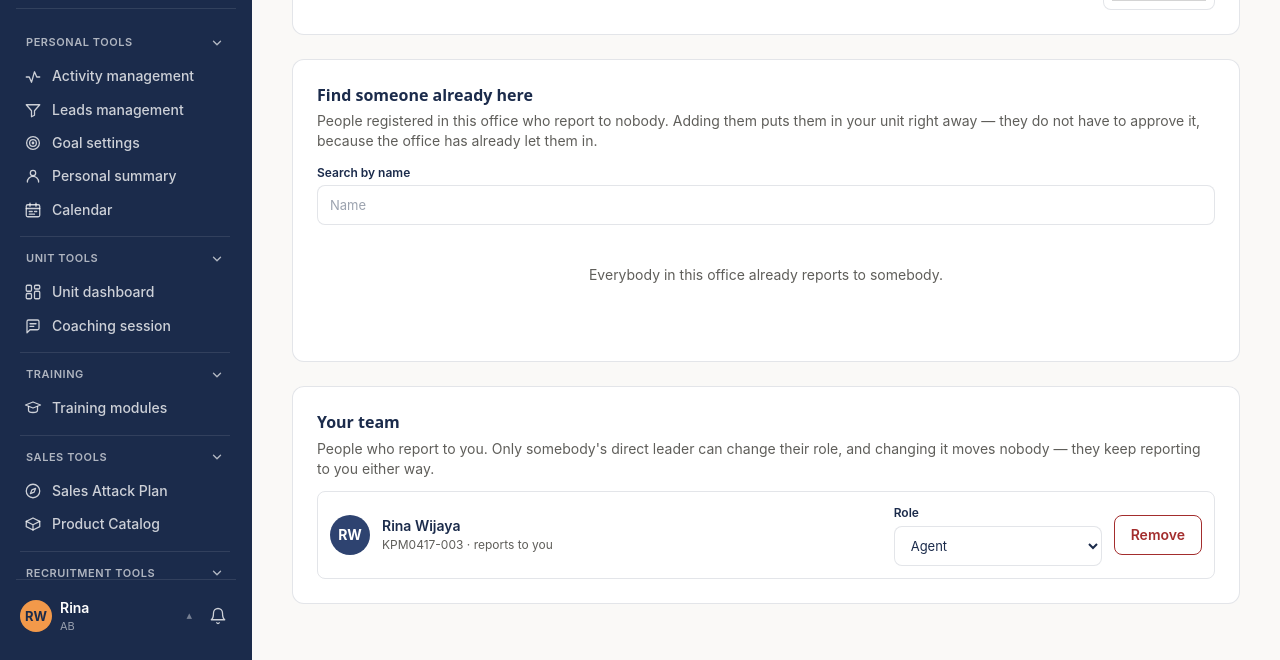
Test: inviting people (P3-T4) › changing a role (P3-T6) › changes nothing until it is confirmed
(page scrolled)
Select "Associate Agency Builder" in the dropdown labelled "Role" at (998, 546), box x1=894 y1=526 x2=1102 y2=566
(page scrolled)
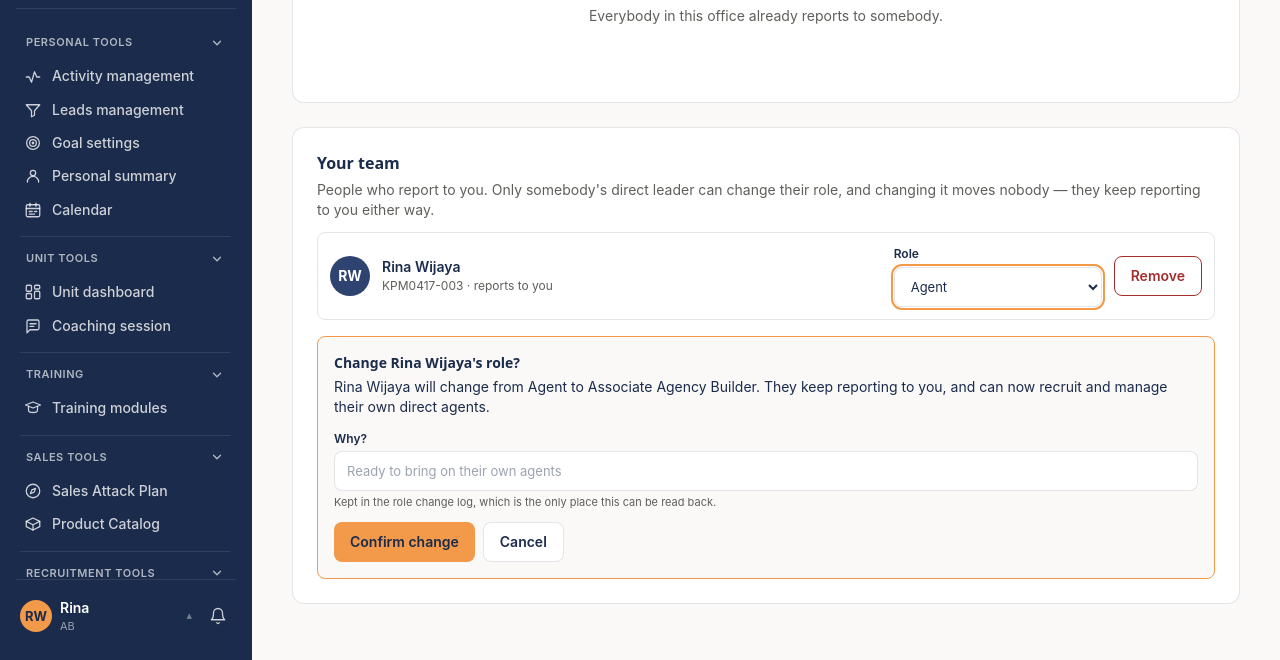
Click the button "Cancel".
click(523, 542)  # box x1=483 y1=522 x2=564 y2=562
(page scrolled)
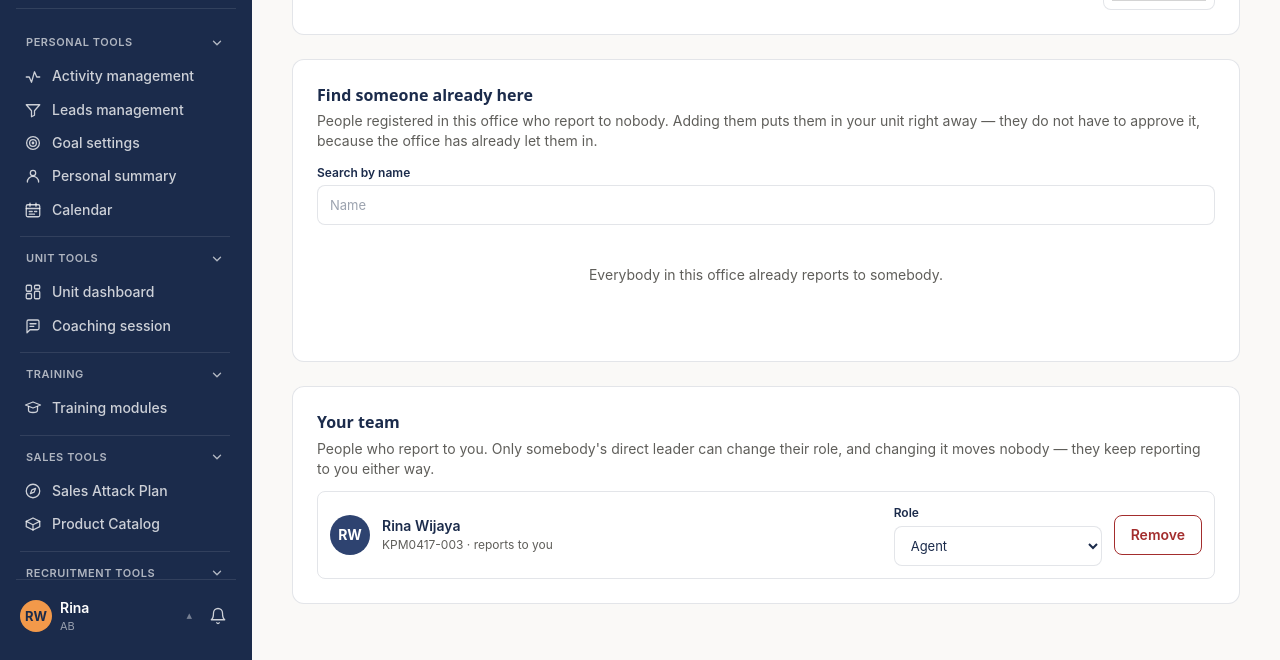
Result: the text "can now recruit" is gone
